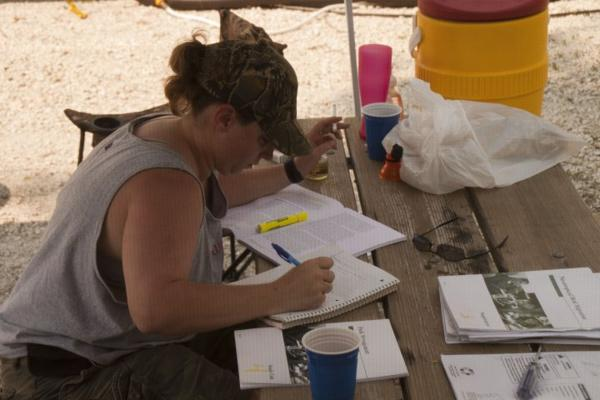person: (4, 40, 336, 398)
